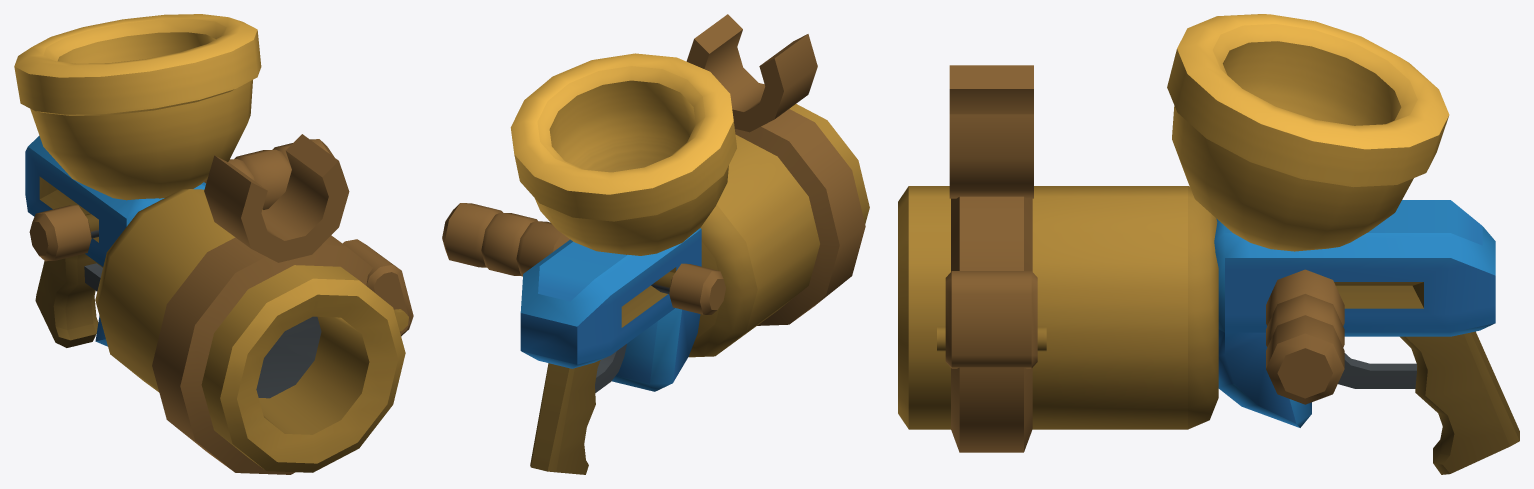
The model's file is kk_holiday_ruche_canon.glb.
3 renders of one model, left to right at view 1: azimuth 30°, elevation 25°; view 2: azimuth 150°, elevation 25°; view 3: azimuth 270°, elevation 25°, orthographic. The views are drawn at different scales.
Visible parts, largest first — view 1: snowball_cannon; view 2: snowball_cannon; view 3: snowball_cannon.
Part boxes in pixels (x1,y1,x2,y2): snowball_cannon: (14, 14, 413, 474); snowball_cannon: (442, 14, 869, 474); snowball_cannon: (898, 14, 1519, 474).
Size of the model in its own units: 0.6016 by 0.714 by 0.9509.
1 material, 1 textured.
